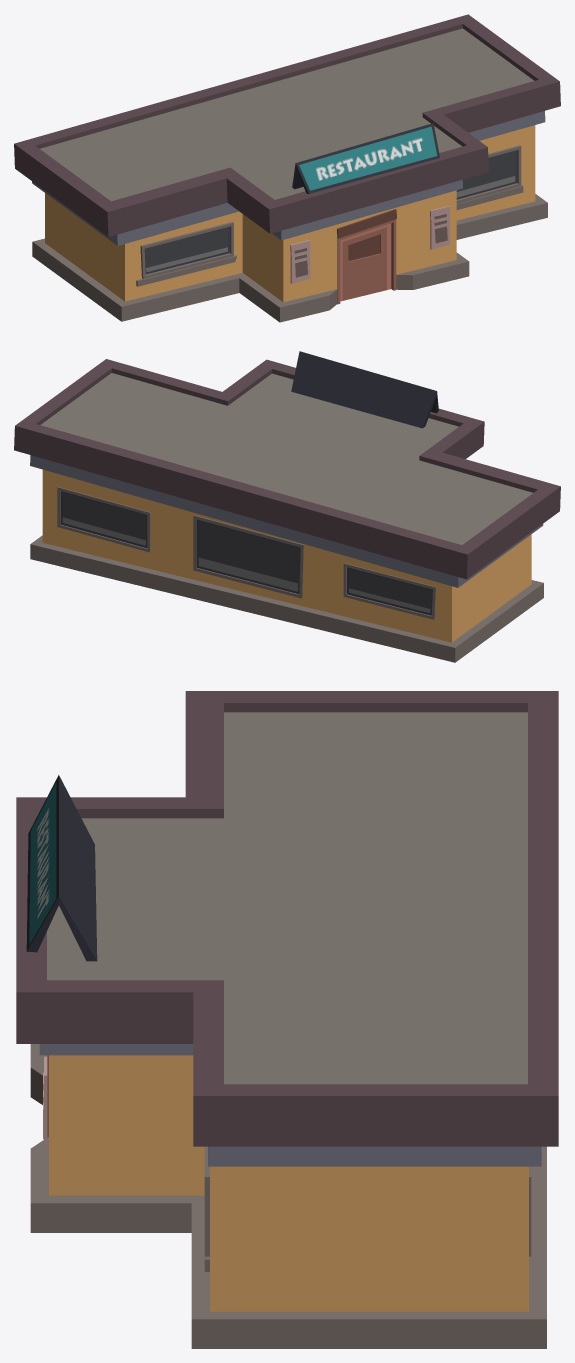
Rendered from restaurant02_color02.fbx.
3 renders of one model, top to bottom at view 1: azimuth 30°, elevation 25°; view 2: azimuth 150°, elevation 25°; view 3: azimuth 270°, elevation 25°, orthographic. The views are drawn at different scales.
Parts seen in each view (by area): view 1: restaurant02_color02; view 2: restaurant02_color02; view 3: restaurant02_color02.
Boxes of the visible parts, x1,y1,x2,y2 form: restaurant02_color02: [14, 14, 560, 322]; restaurant02_color02: [14, 351, 560, 662]; restaurant02_color02: [16, 691, 558, 1348].
Bounding box in the file's own units: 2266 × 738 × 1173.
